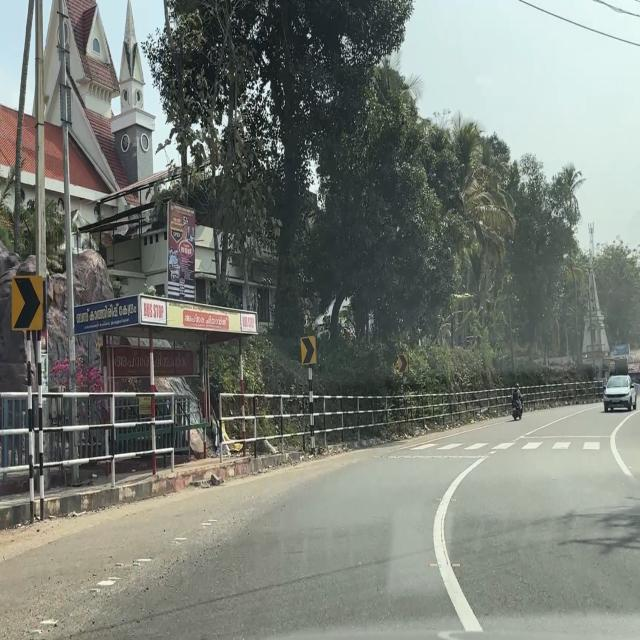TURN_RIGHT: (11, 273, 44, 331), (300, 335, 317, 366), (398, 353, 408, 373)
